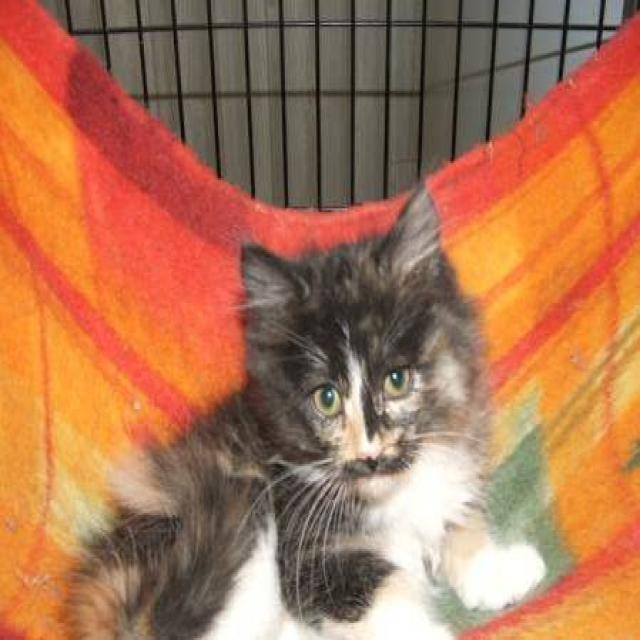cat: (53, 178, 547, 638)
